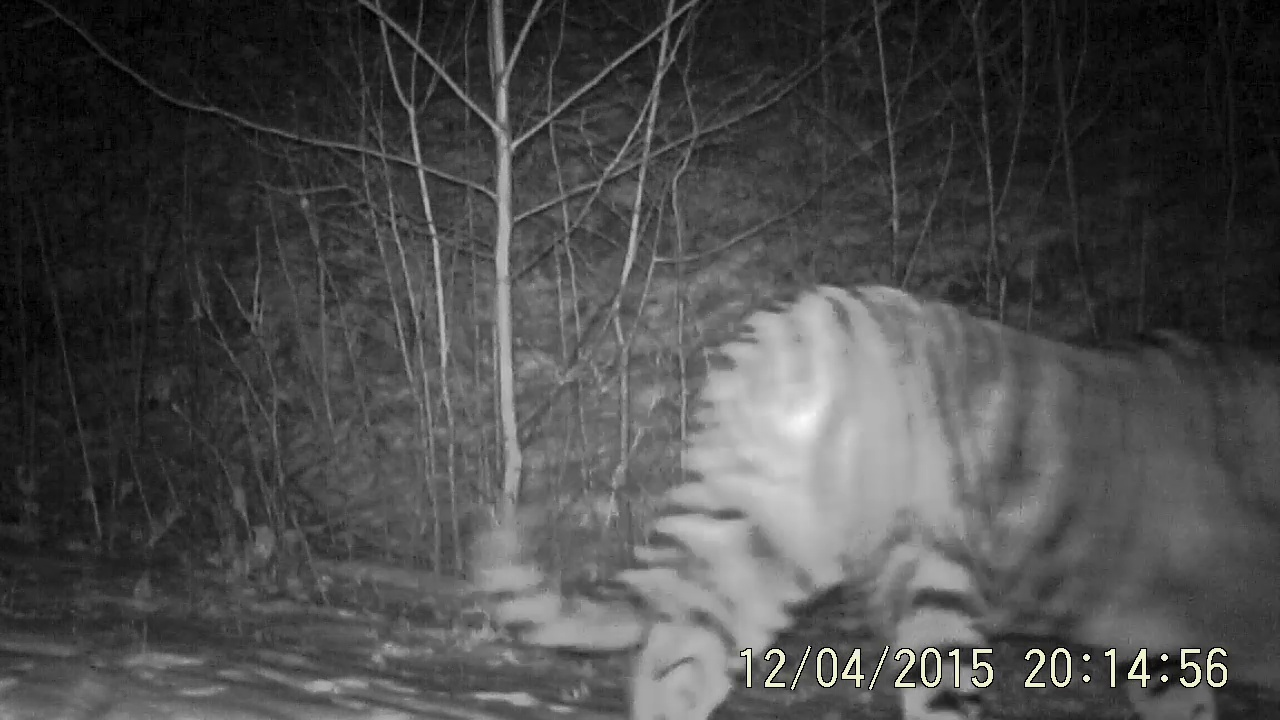Tiger: (535, 200, 1280, 720)
